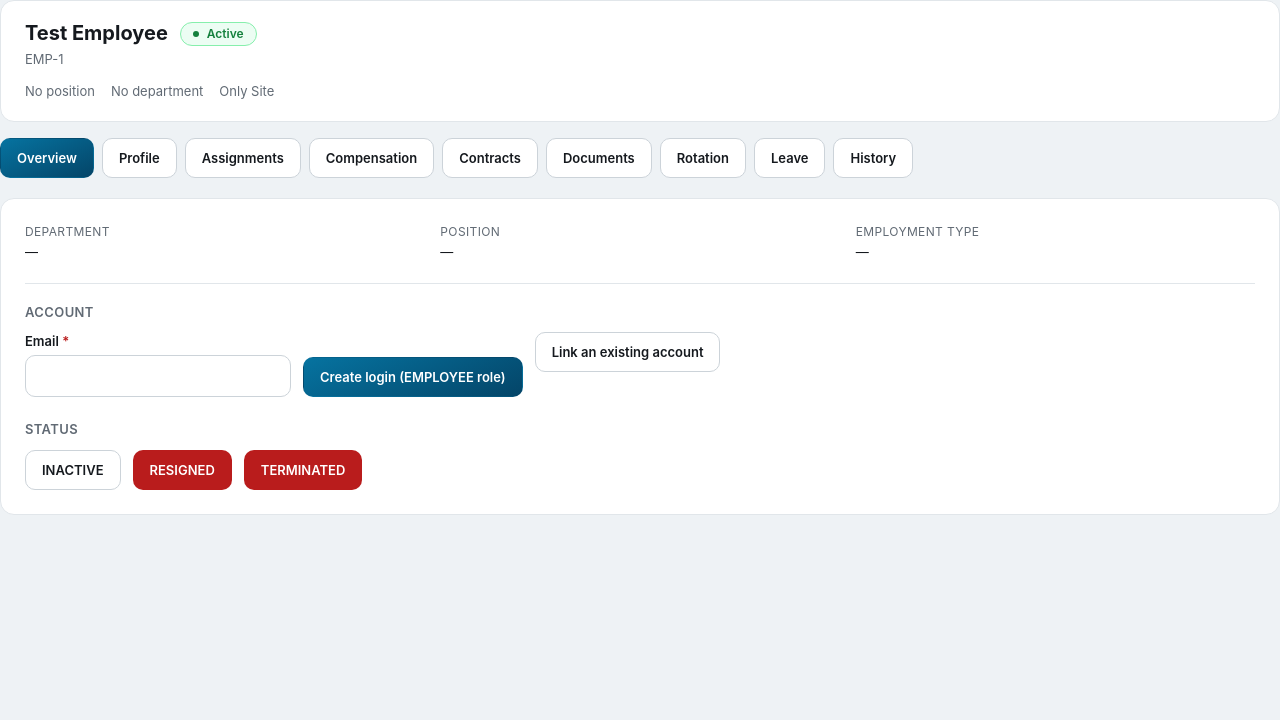
Test: EmployeeDetailPage status transitions (PASS1-R02) › RESIGNED requires a non-empty reason before submitting
This screenshot has width=1280, height=720.
Check: the heading "Test Employee" is shown, box [25, 21, 168, 46]
Click the button "RESIGNED": click(182, 470) [132, 450, 232, 490]
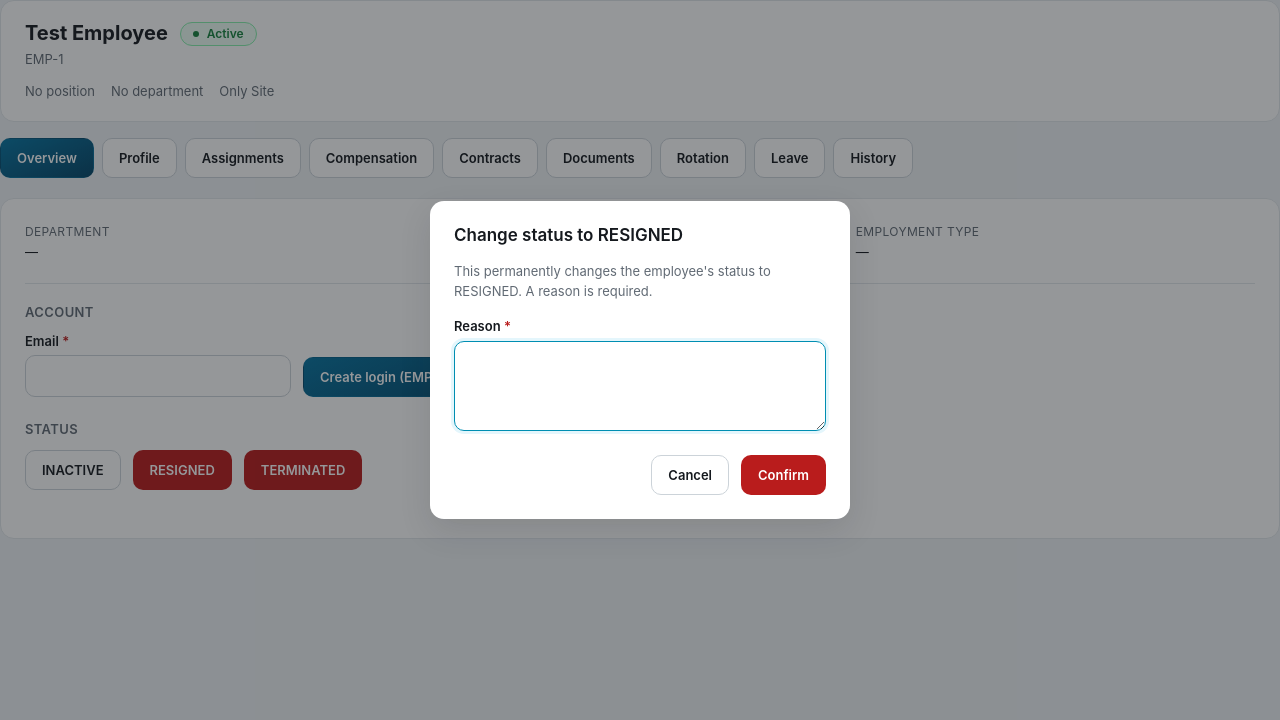
Click the button "Confirm": click(784, 475) [741, 455, 826, 495]
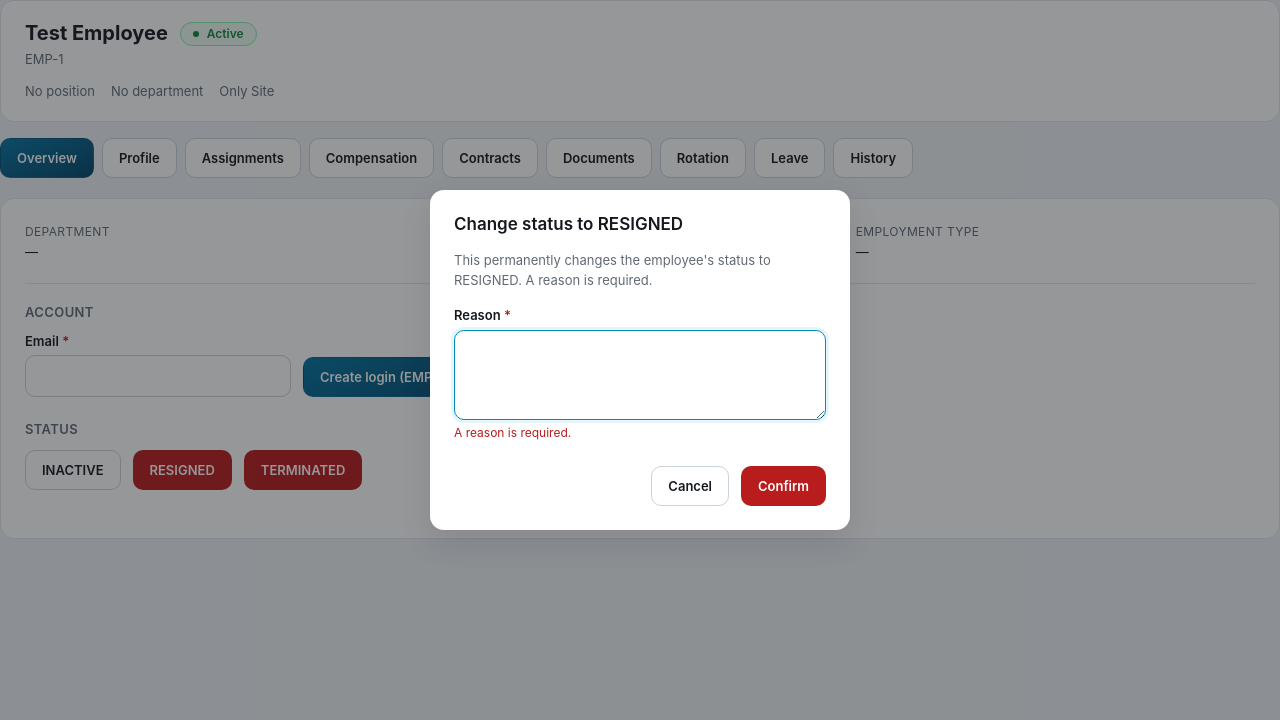
Check: the text "A reason is required." is shown, box [454, 425, 571, 440]
